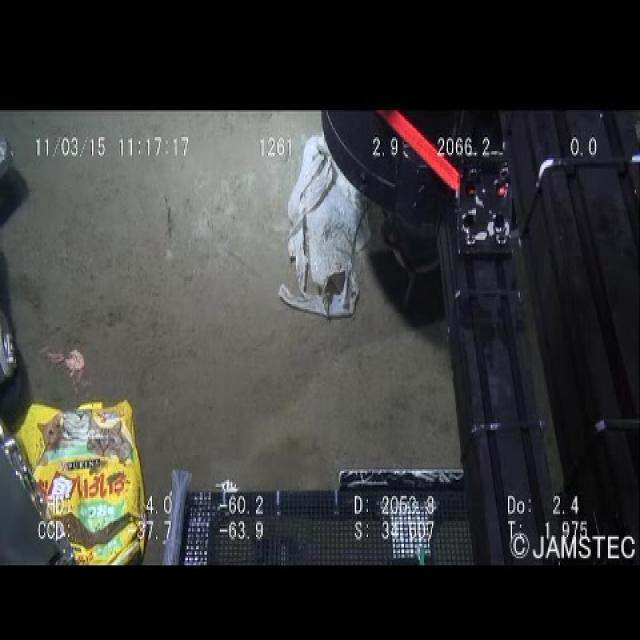plastic: (5, 393, 147, 562), (272, 121, 377, 347)
